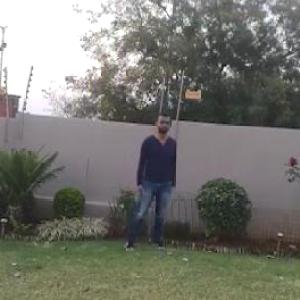follow: (129, 112, 176, 260)
